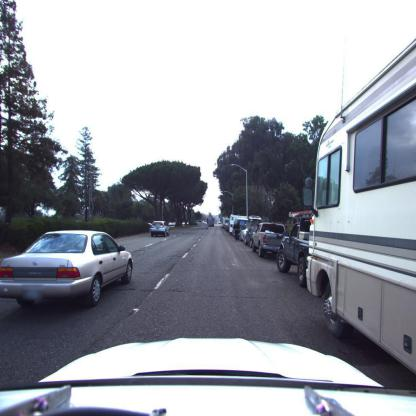car: (1, 230, 135, 309), (277, 218, 311, 276), (253, 223, 287, 258), (236, 218, 258, 243), (242, 223, 260, 248), (150, 221, 171, 237), (169, 222, 176, 227)
truck: (284, 16, 416, 373), (228, 212, 247, 235), (205, 216, 216, 228)
